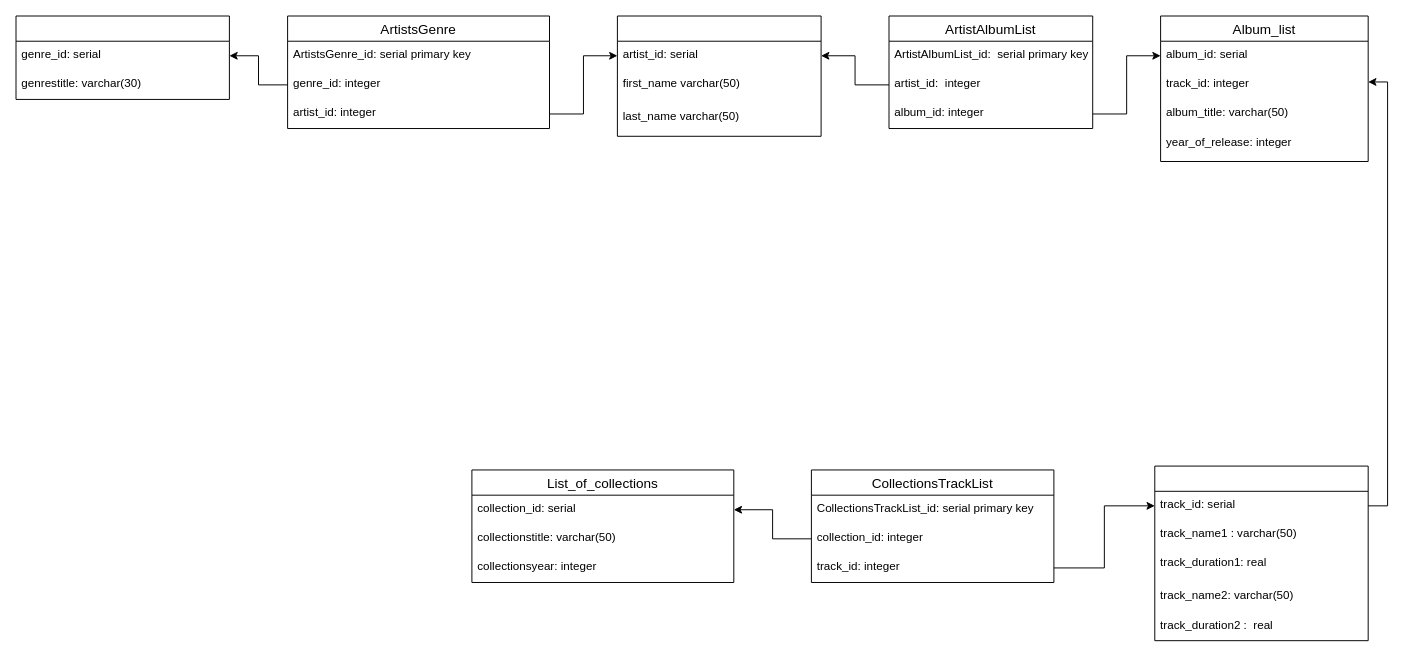
This 1404x657 diagram has some shape labels left out. Here are the shapes that lost their labels. From the top down, the box of each, then its label:
(15, 15, 229, 99): Genres_list
(616, 15, 821, 136): Artist_list
(1154, 465, 1368, 641): Track_list
